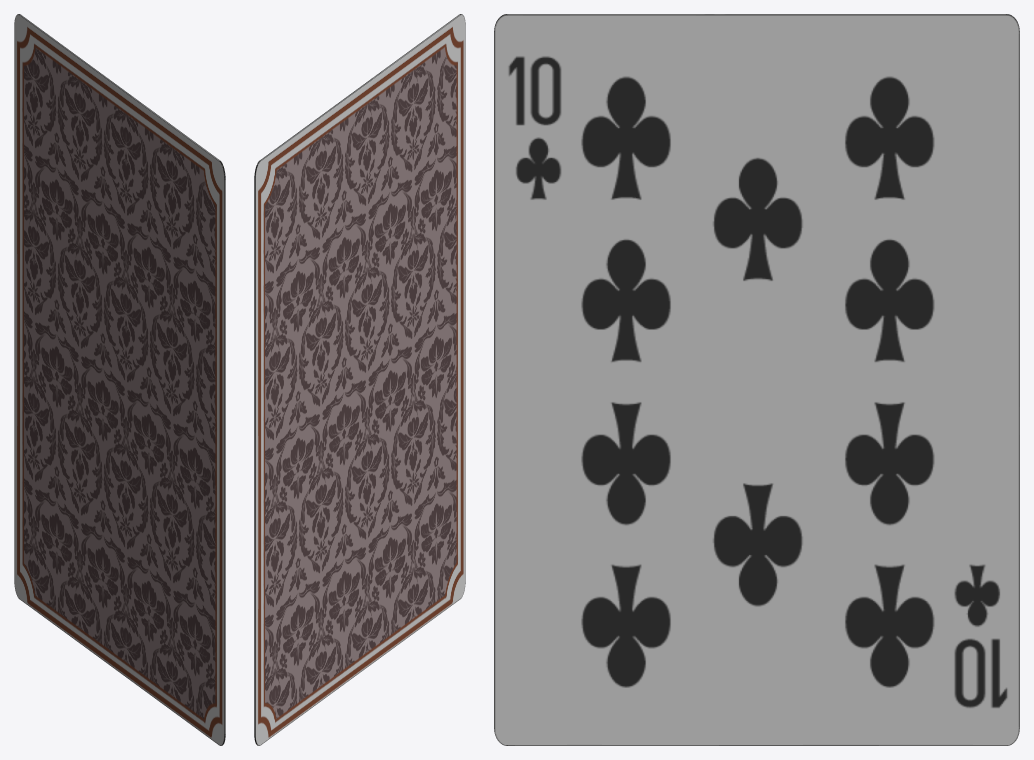
Rendered from clover10.glb.
3 views of the same model, side by side, from view 1: azimuth 30°, elevation 25°; view 2: azimuth 150°, elevation 25°; view 3: azimuth 270°, elevation 25° (orthographic). The views are drawn at different scales.
Parts seen in each view (by area): view 1: Cube; view 2: Cube; view 3: Cube.
Boxes of the visible parts, box(x1,y1,x2,y2) form: Cube: box(14, 14, 225, 745); Cube: box(254, 14, 465, 745); Cube: box(494, 14, 1019, 745).
Bounding box in the file's own units: 0.036 × 17.8 × 11.6.
1 material, 1 textured.
